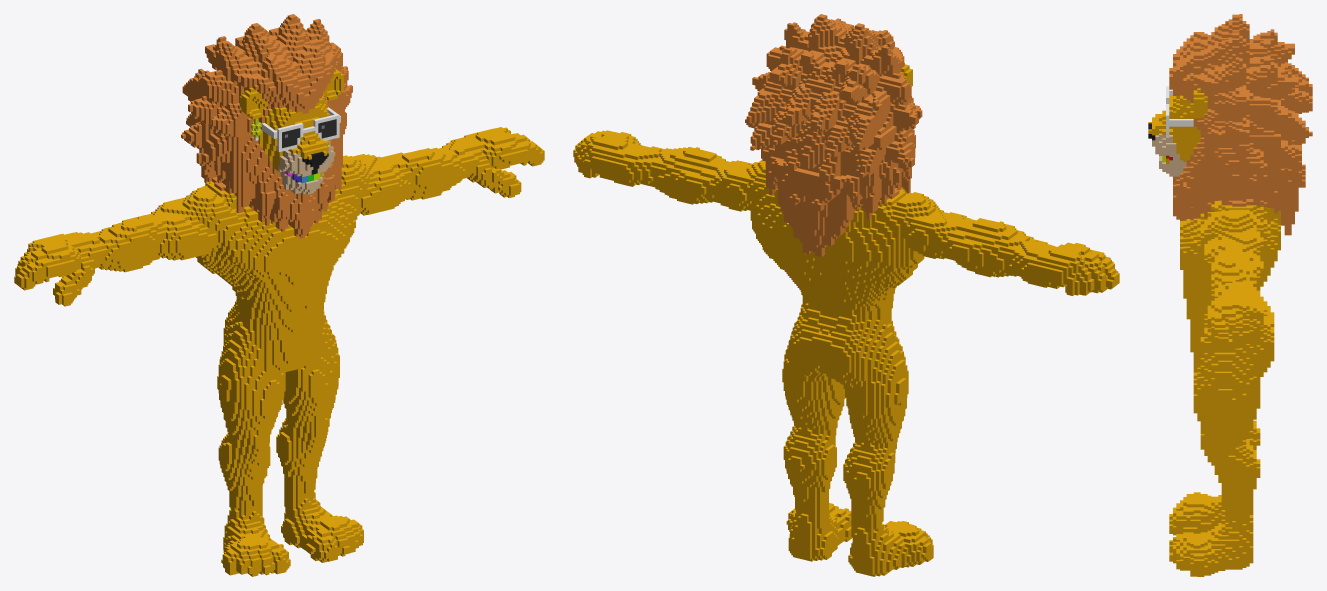
The model's file is 815-DE0acZeC.glb.
3 renders of one model, left to right at view 1: azimuth 30°, elevation 25°; view 2: azimuth 150°, elevation 25°; view 3: azimuth 270°, elevation 25°, orthographic. The views are drawn at different scales.
Visible parts, largest first — view 1: rainbow_grill; view 2: rainbow_grill; view 3: rainbow_grill.
Boxes of the visible parts, bbox=[...] form: rainbow_grill: bbox=[14, 14, 544, 576]; rainbow_grill: bbox=[573, 14, 1119, 576]; rainbow_grill: bbox=[1148, 14, 1312, 576].
Bounding box in the file's own units: 17.2 × 16.5 × 4.7.
Materials: 5 (5 with a texture image).
